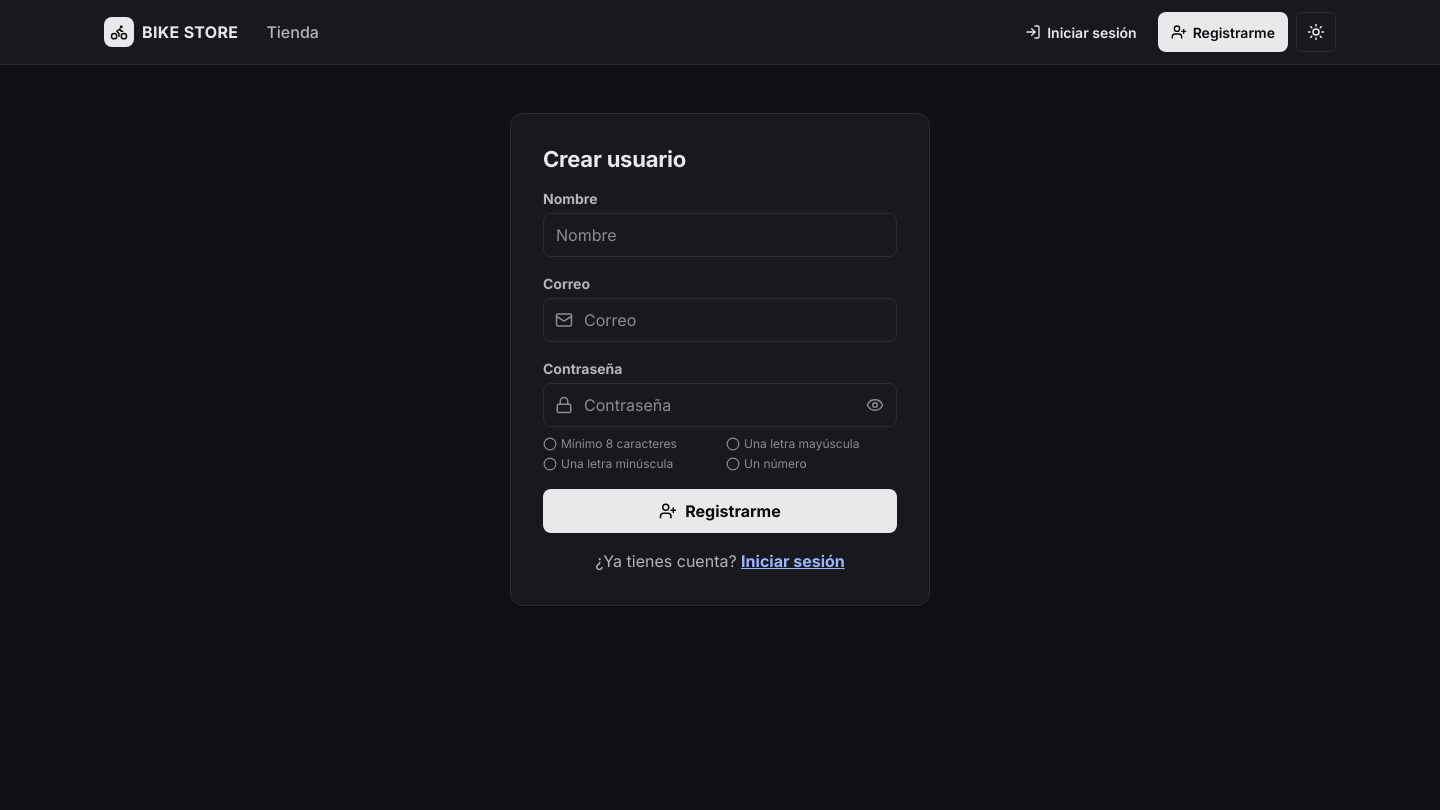
Test: Registro (CU-09) › deshabilita el botón mientras envía y al terminar lleva a /login con un aviso
The width and height of the screenshot is (1440, 810).
Later steps or results of the test are not shown.
Type "  Ana Cliente  " into the field with placeholder "Nombre".
click(720, 235); type("  Ana Cliente  ")  # box [543, 213, 897, 257]
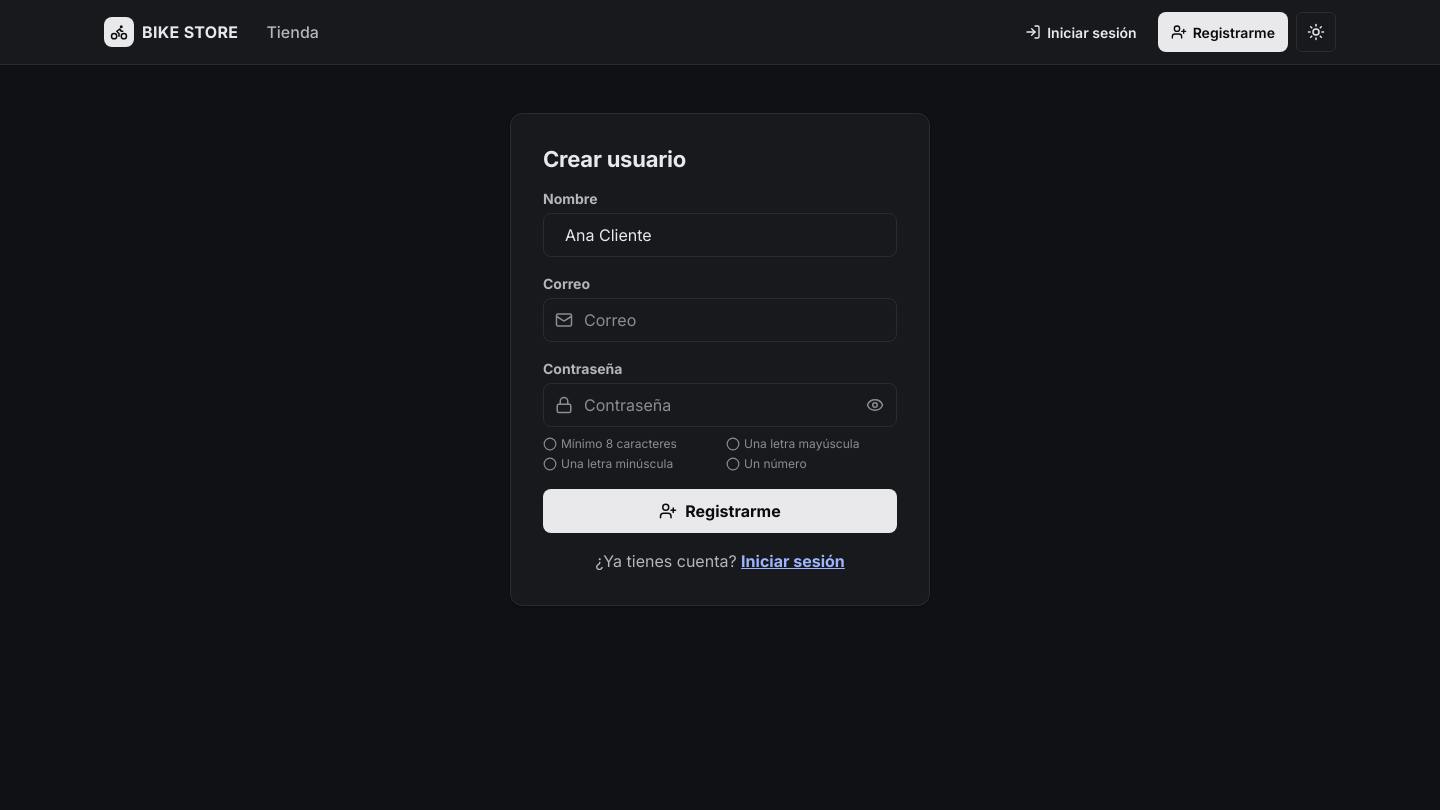
Type "  ana@prueba.local " into the field with placeholder "Correo".
click(720, 320); type("  ana@prueba.local ")  # box [543, 298, 897, 342]
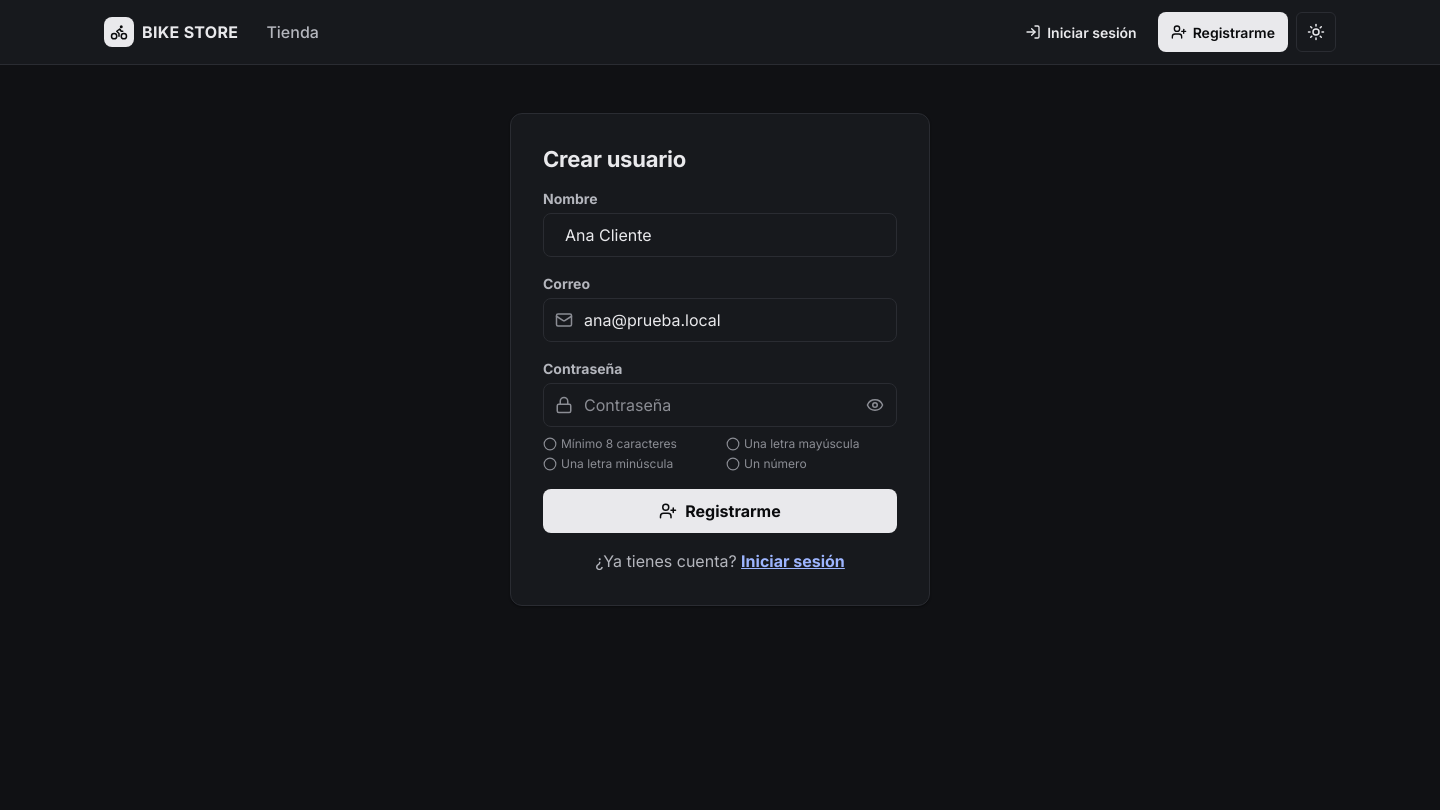
Type "Clave1234" into the password field with placeholder "Contraseña".
click(720, 405); type("Clave1234")  # box [543, 383, 897, 427]
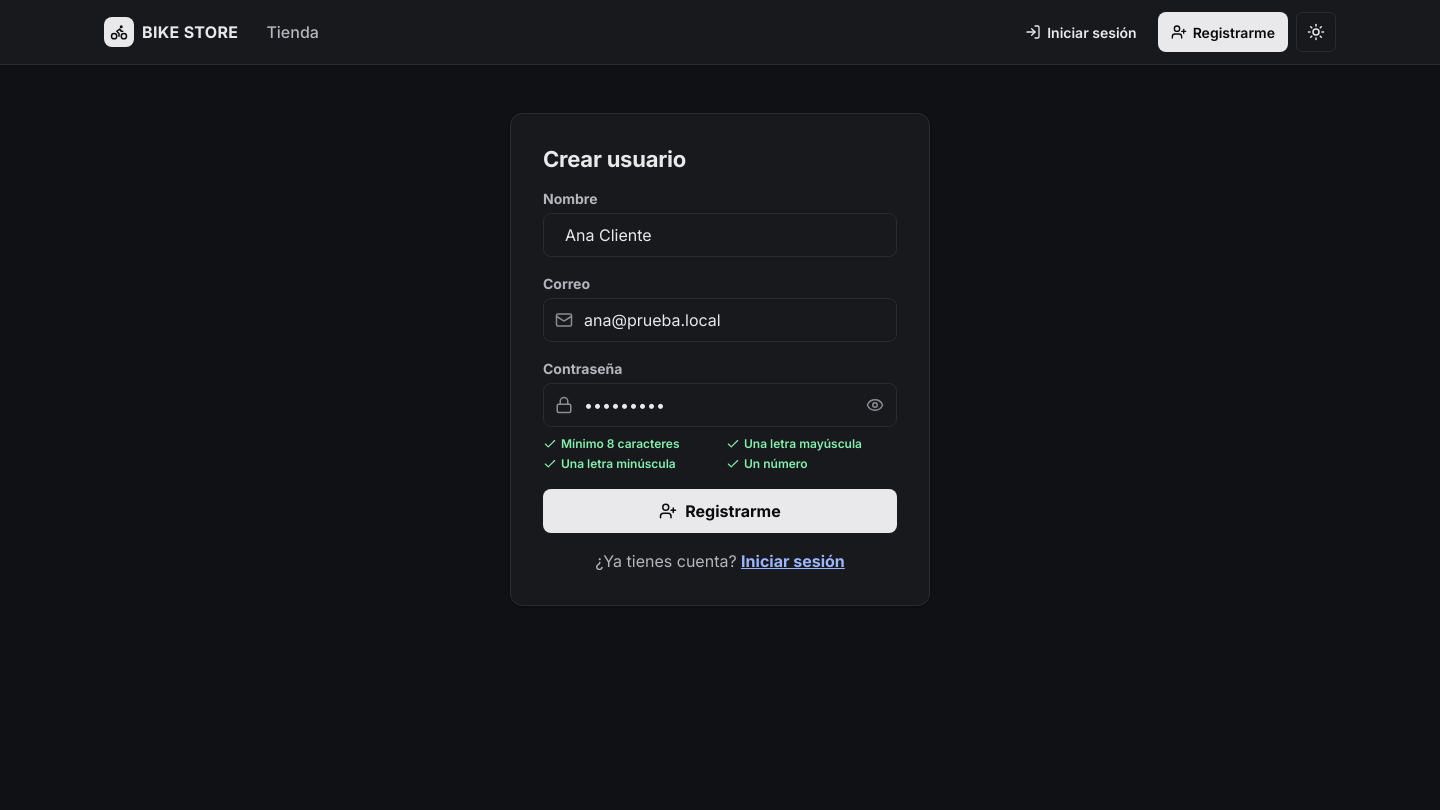
Click the button "Registrarme".
click(720, 511)  # box [543, 489, 897, 533]
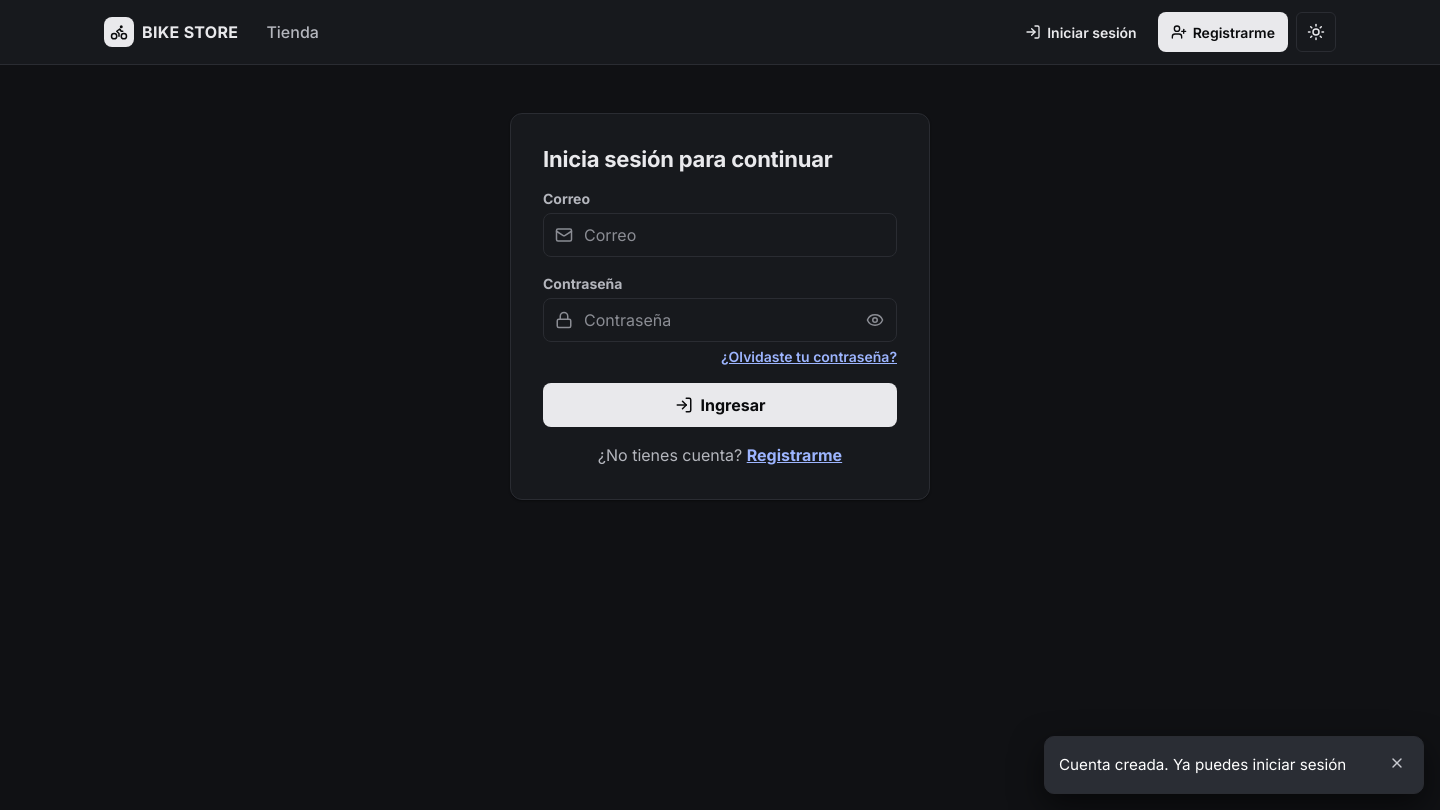
Check: the text "Cuenta creada. Ya puedes iniciar sesión" is shown, box [1059, 754, 1375, 776]
Check: the heading "Inicia sesión para continuar" is shown, box [543, 146, 832, 172]
